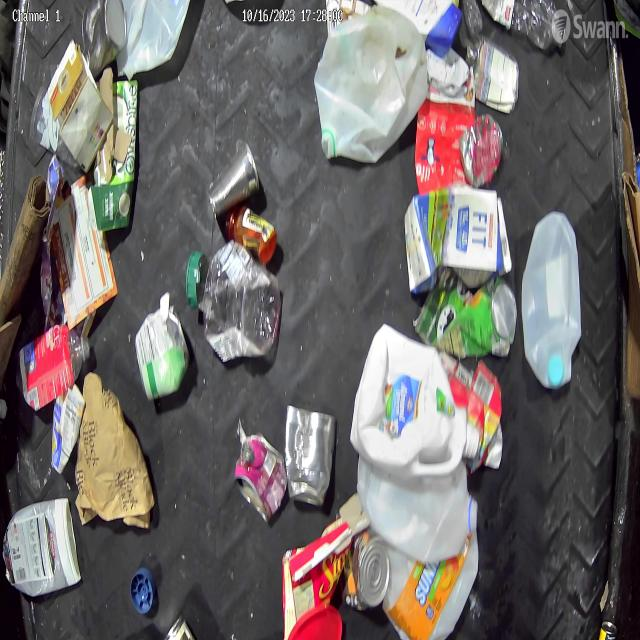can: (282, 408, 338, 510), (238, 432, 292, 530), (209, 136, 261, 228), (75, 0, 133, 80), (349, 534, 389, 618)
milk_jug: (352, 324, 484, 484), (316, 8, 431, 168), (358, 455, 480, 570), (520, 214, 585, 402)
non_white_jug: (0, 499, 80, 622)
plastic_bottle: (15, 322, 93, 406)
